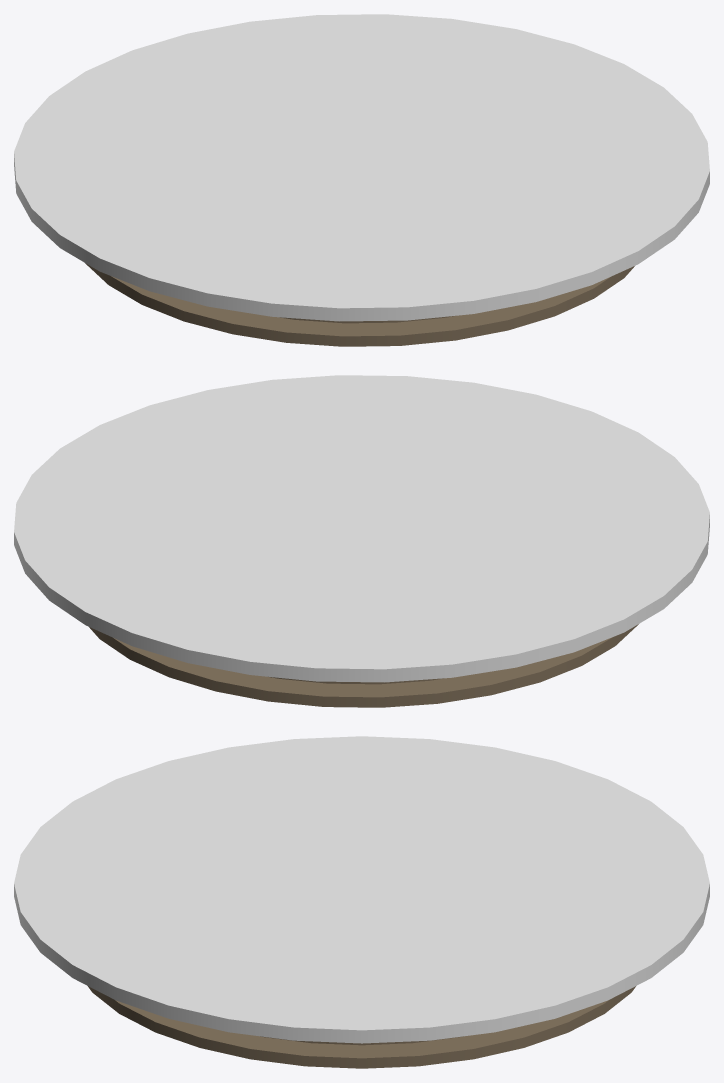
Rendered from Table_LODs.fbx.
The picture shows the model from 3 angles, top to bottom: view 1: azimuth 30°, elevation 25°; view 2: azimuth 150°, elevation 25°; view 3: azimuth 270°, elevation 25°; orthographic projection.
Visible parts, largest first — view 1: Table_LOD0; view 2: Table_LOD0; view 3: Table_LOD0.
Part boxes in pixels (x1,y1,x2,y2): Table_LOD0: (14,14,709,346); Table_LOD0: (14,375,709,707); Table_LOD0: (14,736,709,1068).
Size of what is drawn, in the model's own units: 304 by 31.65 by 304.
